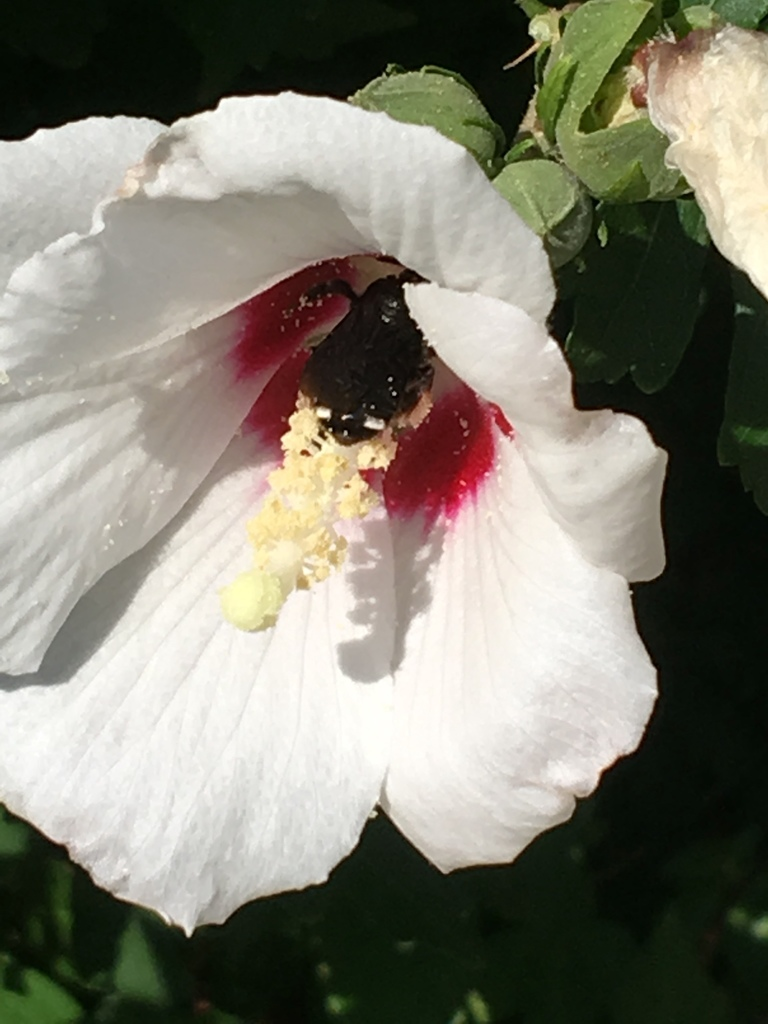not_bumblebee: (303, 270, 440, 451)
